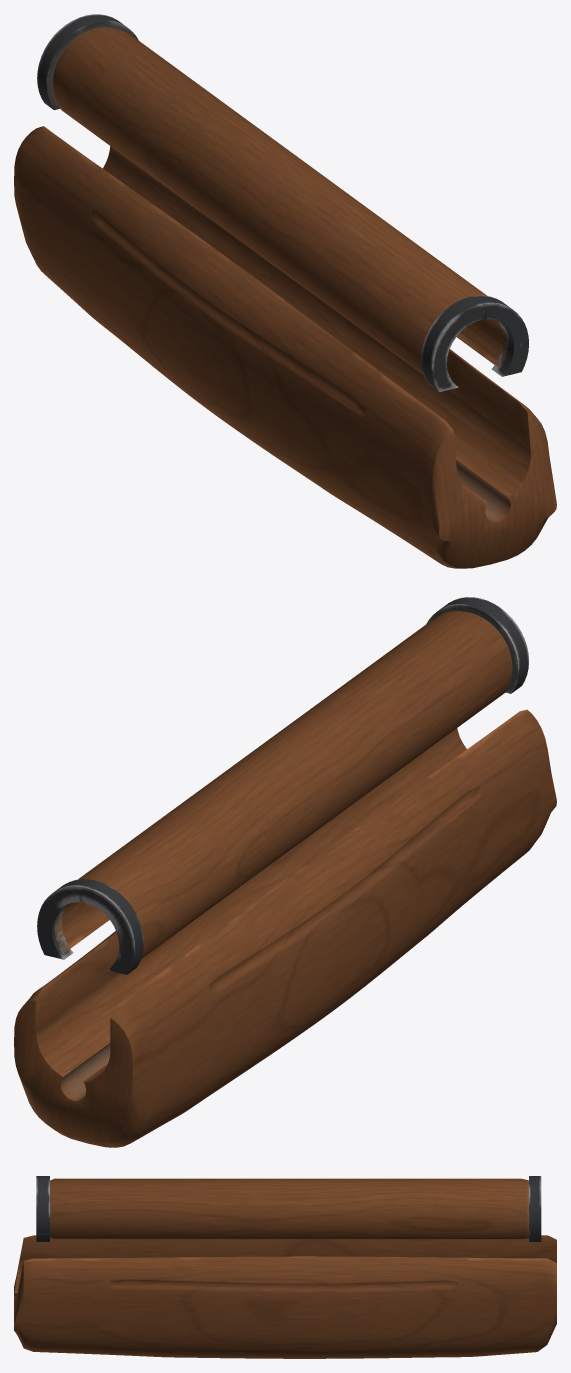
The model's file is guarda_mao_madeira_ak.glb.
The picture shows the model from 3 angles, top to bottom: view 1: azimuth 30°, elevation 25°; view 2: azimuth 150°, elevation 25°; view 3: azimuth 270°, elevation 25°; orthographic projection. The views are drawn at different scales.
Visible parts, largest first — view 1: guarda_mao_madeira_ak_guarda_mao; view 2: guarda_mao_madeira_ak_guarda_mao; view 3: guarda_mao_madeira_ak_guarda_mao.
Part boxes in pixels (<box>): guarda_mao_madeira_ak_guarda_mao: <box>14,14,556,568</box>; guarda_mao_madeira_ak_guarda_mao: <box>14,597,556,1147</box>; guarda_mao_madeira_ak_guarda_mao: <box>14,1176,556,1358</box>.
Size of the model in its own units: 0.0384 by 0.0674 by 0.1951.
1 material, 1 textured.
